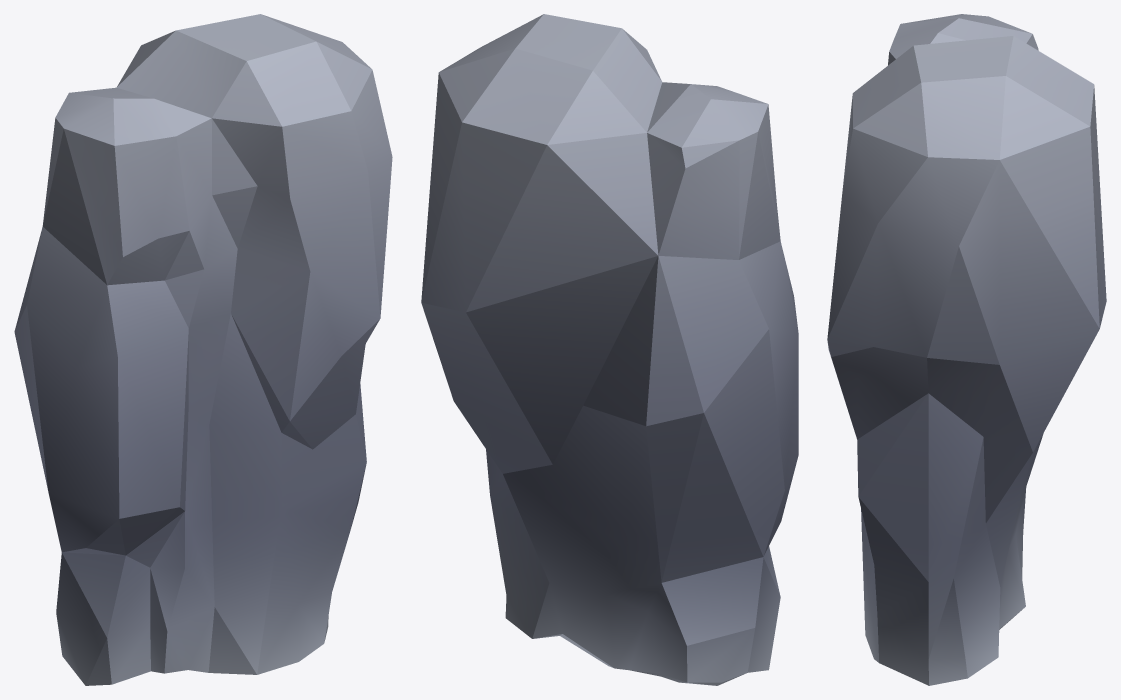
File: Terrain_Stage2_Mountain_5.fbx
3 renders of one model, left to right at view 1: azimuth 30°, elevation 25°; view 2: azimuth 150°, elevation 25°; view 3: azimuth 270°, elevation 25°, orthographic.
Visible parts, largest first — view 1: terrain_mountain_424_LOD0 #1404424; view 2: terrain_mountain_424_LOD0 #1404424; view 3: terrain_mountain_424_LOD0 #1404424.
Part boxes in pixels (x1,y1,x2,y2): terrain_mountain_424_LOD0 #1404424: (14,14,392,685); terrain_mountain_424_LOD0 #1404424: (421,14,798,685); terrain_mountain_424_LOD0 #1404424: (827,14,1106,685).
Bounding box in the file's own units: 1555 × 2642 × 1119.
1 material, 1 textured.
